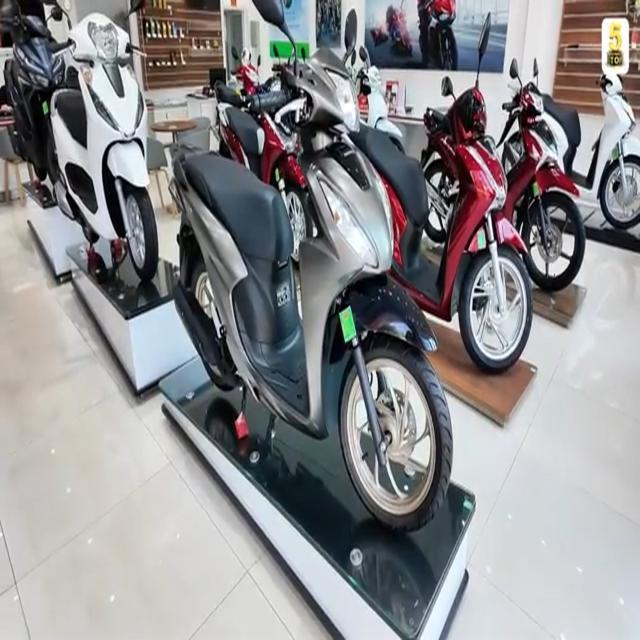motorcycle: (162, 0, 460, 535), (406, 64, 535, 390), (34, 0, 165, 290), (586, 59, 640, 245)
